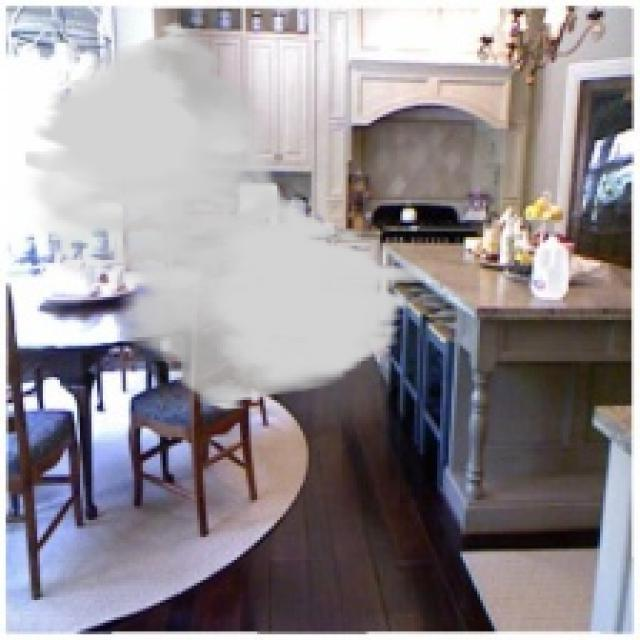Smoke: (23, 19, 426, 412)
